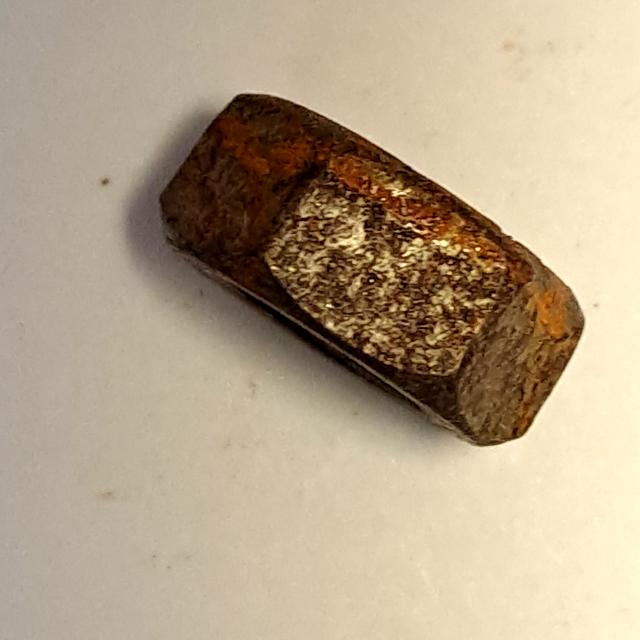Side_Rust: (143, 81, 611, 467)
